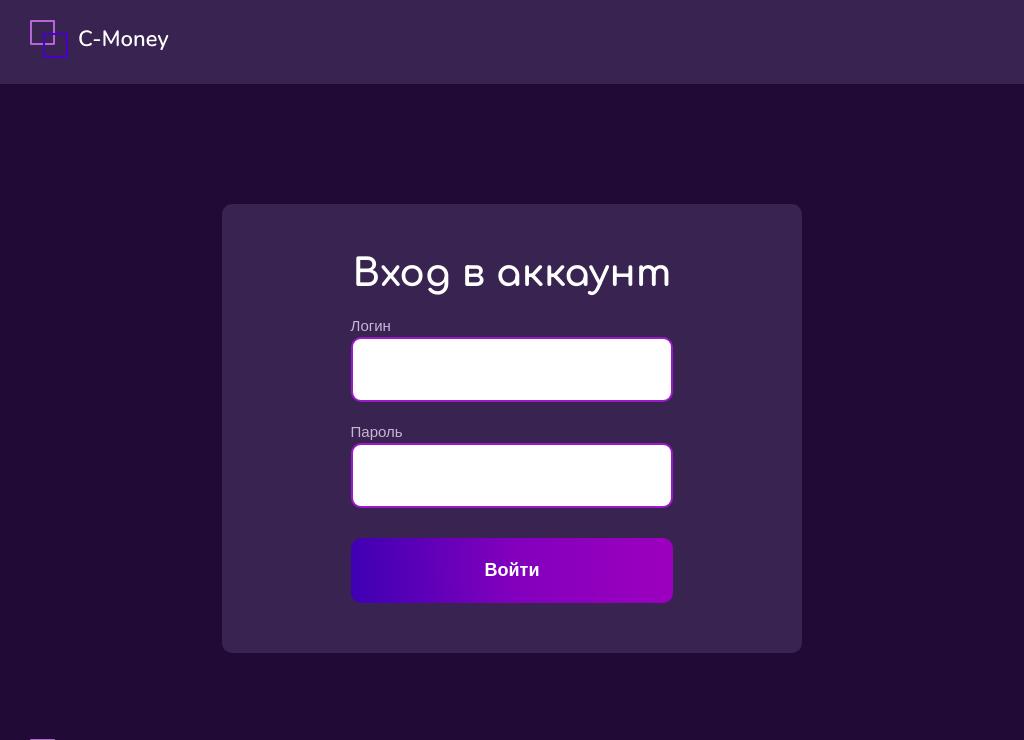
Test: C-Money › Авторизация, не валидный пароль - цифра
Type "developer" into the field named "login" at (513, 370), box [351,337,674,402]
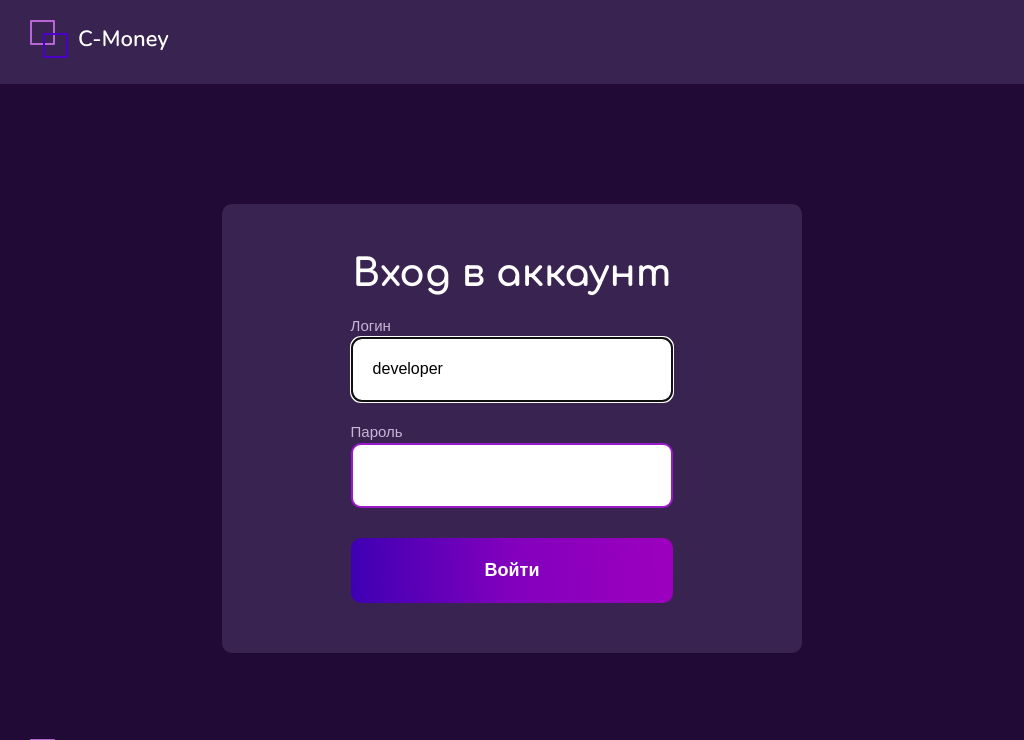
Type "methed1" into the password field named "password" at (513, 476), box [351,443,674,508]
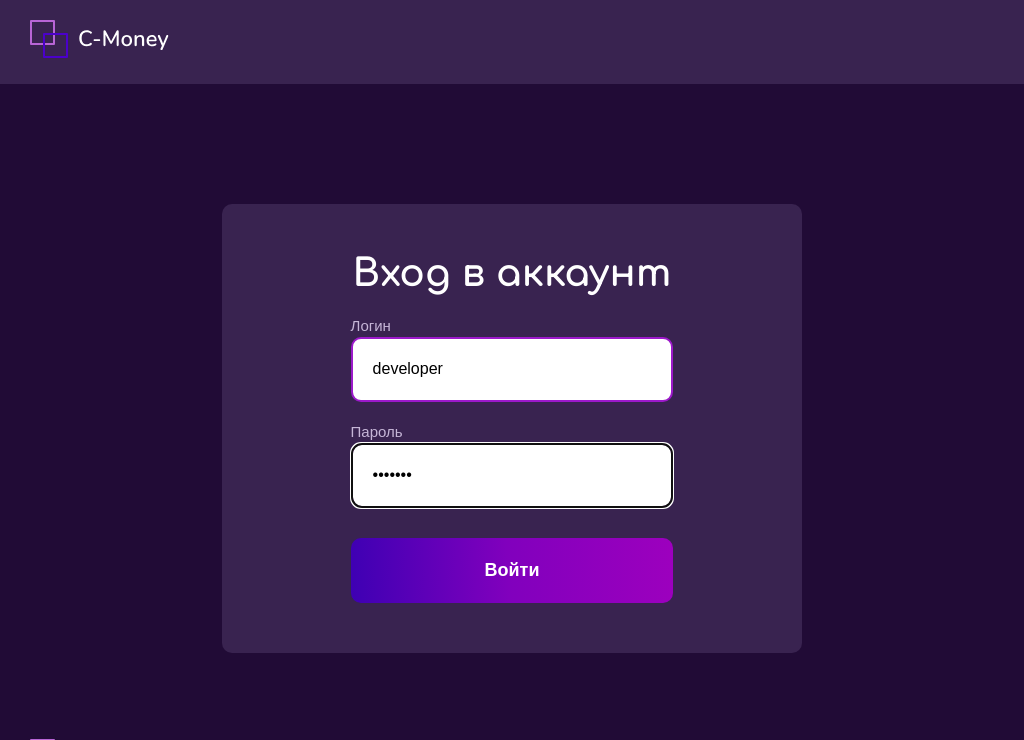
Click the button "Войти" at (513, 571), box [351,538,674,603]
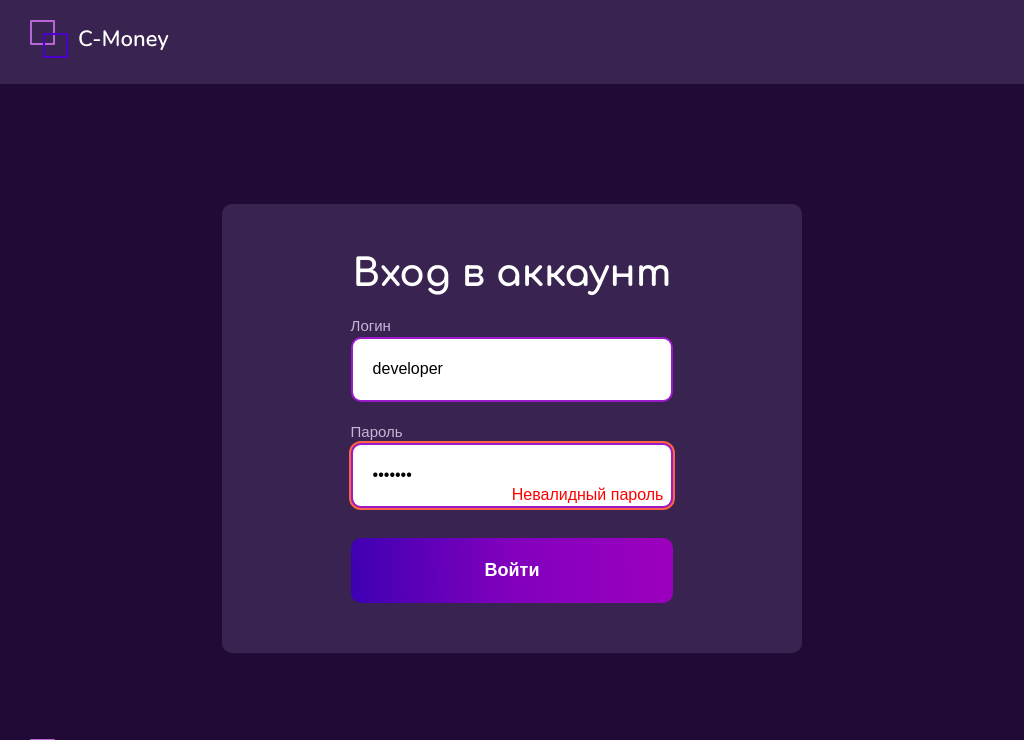
Now the text "Невалидный пароль" is shown, box [512,485,663,506]
